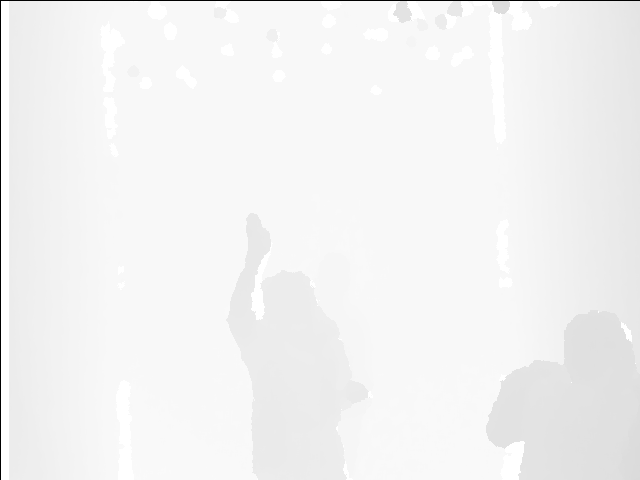hand: (246, 212, 270, 261)
